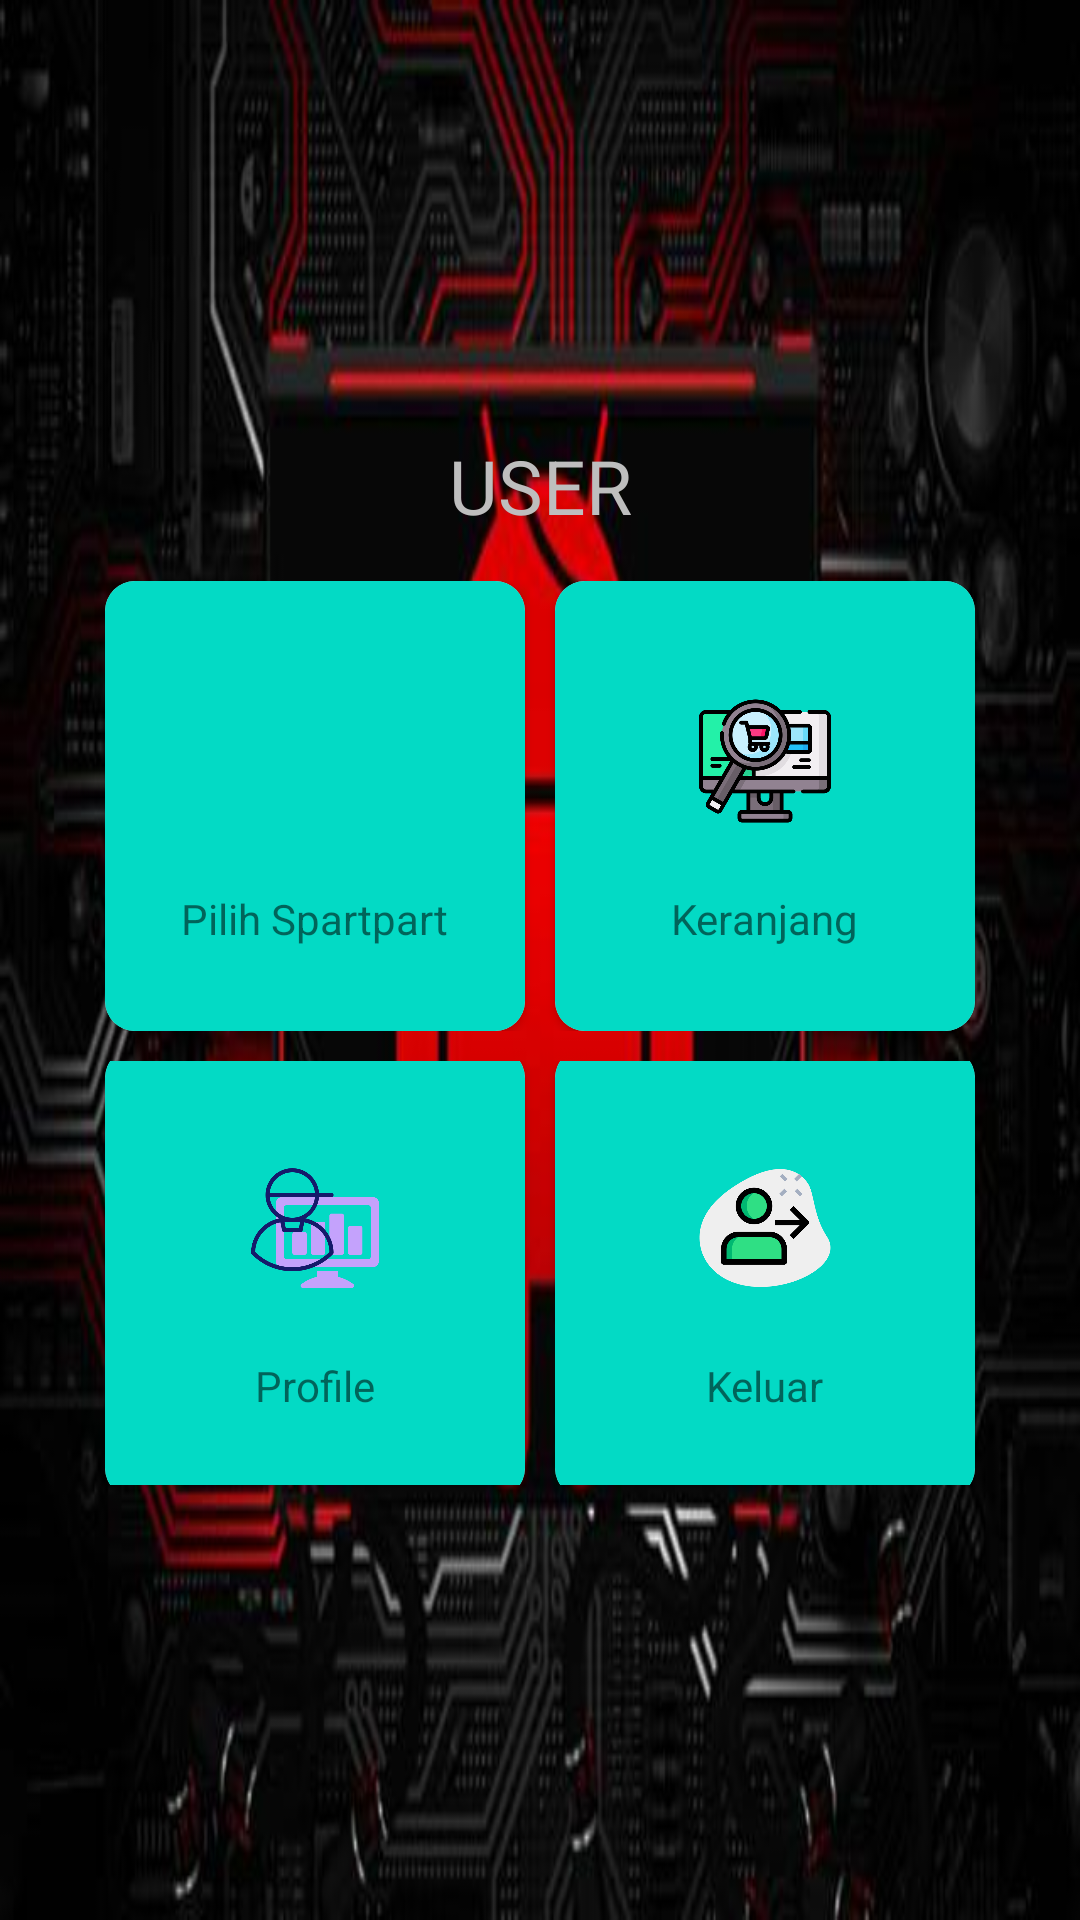

Where to tap for icons on this 1080px x 1920px app screen, as [x,y]:
prifleuser: [315,1228]
search: [765,761]
